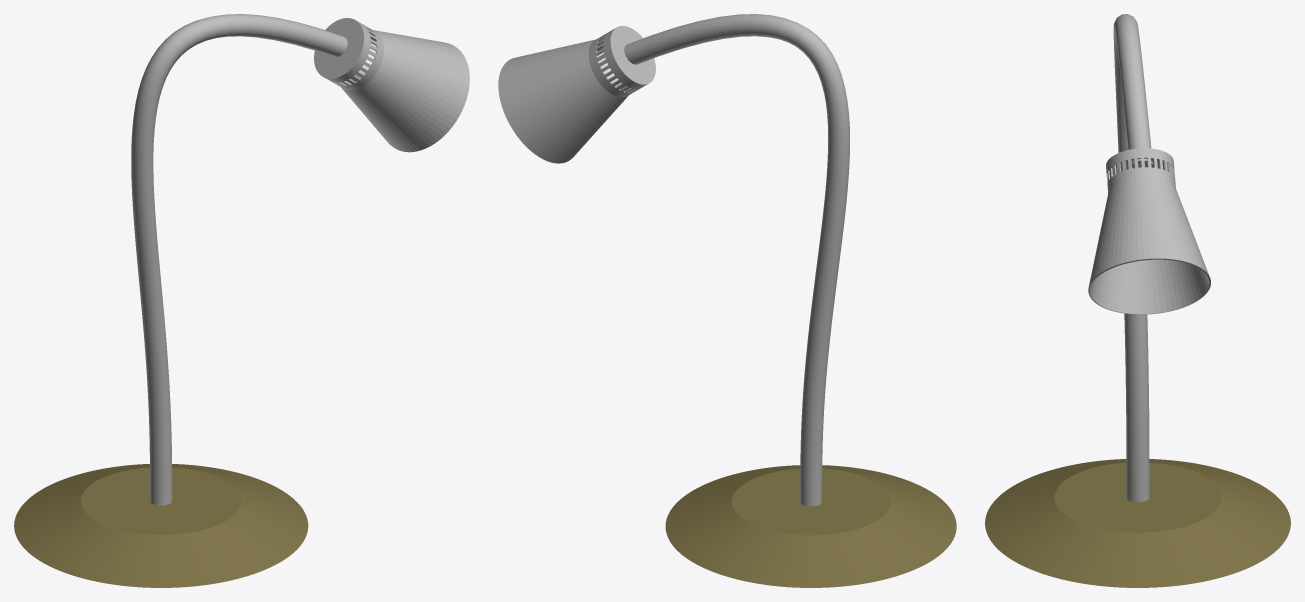
File: Lamp.fbx
The picture shows the model from 3 angles, left to right: view 1: azimuth 30°, elevation 25°; view 2: azimuth 150°, elevation 25°; view 3: azimuth 270°, elevation 25°; orthographic projection. The views are drawn at different scales.
Parts seen in each view (by area): view 1: Sphere.003; view 2: Sphere.003; view 3: Sphere.003.
Part boxes in pixels (x1=…): Sphere.003: x1=14, y1=14, x2=469, y2=587; Sphere.003: x1=498, y1=14, x2=956, y2=587; Sphere.003: x1=985, y1=14, x2=1290, y2=587.
Size of the model in its own units: 1.1 by 1.23 by 0.6559.
